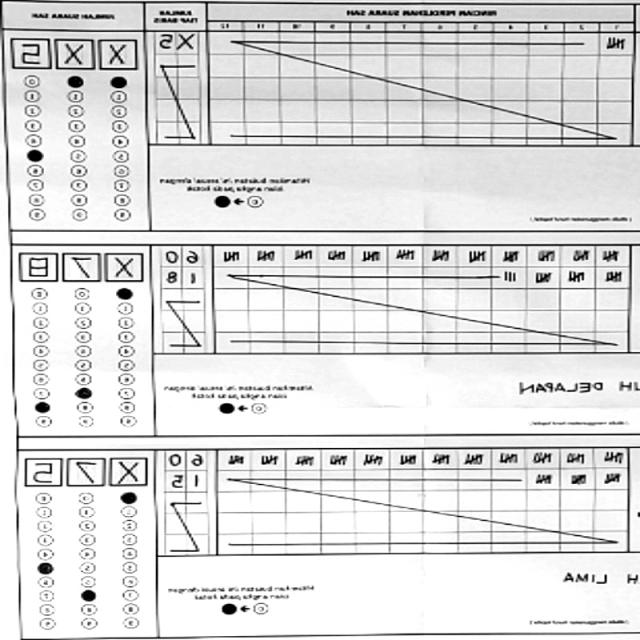Suara: (19, 247, 147, 283), (13, 36, 141, 70), (24, 454, 153, 486)
